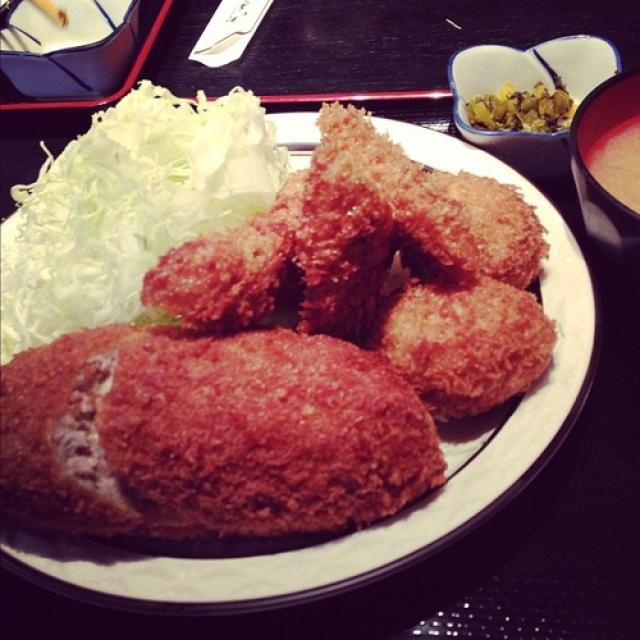炸货点心: (4, 77, 609, 618)
